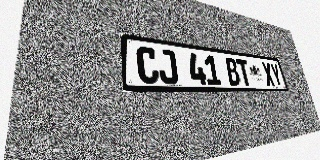1: (202, 54, 221, 85)
4: (187, 52, 207, 85)
B: (224, 57, 241, 85)
C: (136, 46, 160, 84)
J: (157, 48, 179, 84)
T: (236, 59, 252, 86)
X: (261, 62, 276, 86)
Y: (269, 63, 284, 86)
